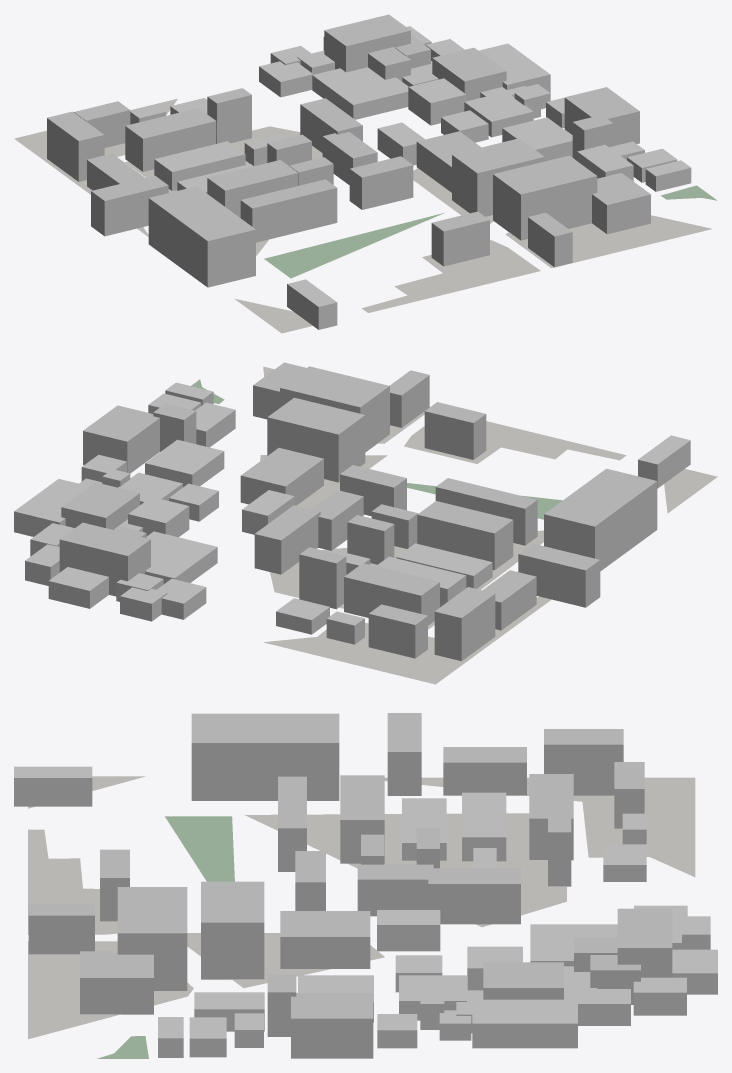
File: 130_98_mid.glb
3 views of the same model, one above another, from view 1: azimuth 30°, elevation 25°; view 2: azimuth 150°, elevation 25°; view 3: azimuth 270°, elevation 25° (orthographic). The views are drawn at different scales.
Bounding box in the file's own units: 535 × 49.08 × 527.
